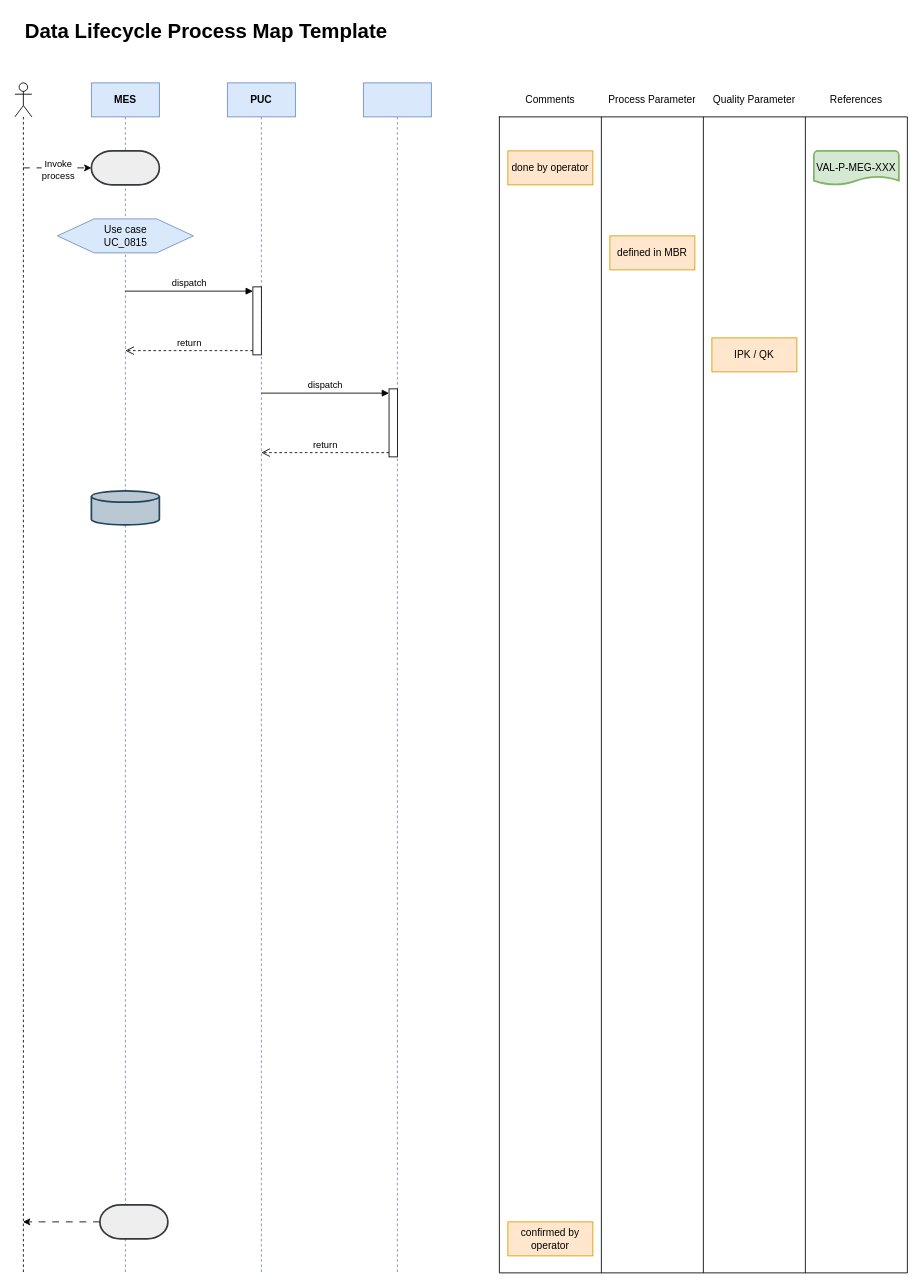
The diagram is 922 pixels wide and 1288 high, and some of its shapes have lost their labels. The shapes that lost their labels are listed below. From the top down, each one's box as (x1, y1, x2, y2) in pixels, then its label:
(90, 150, 160, 185): Start of Process
(90, 490, 160, 525): RDAS
(363, 82, 431, 1273): PU
(99, 1204, 168, 1239): End of Process
